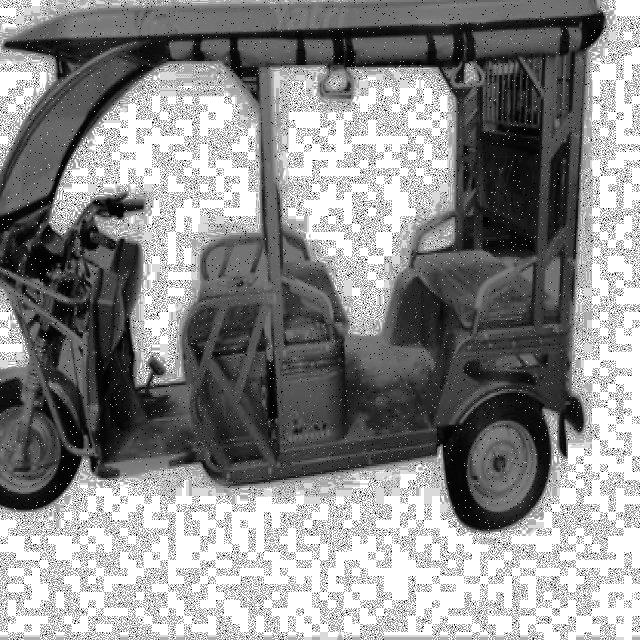Toto: (0, 0, 615, 543)
